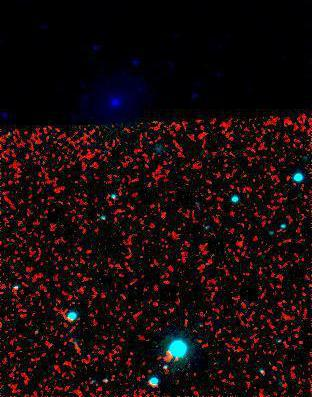star: (162, 333, 192, 363)
